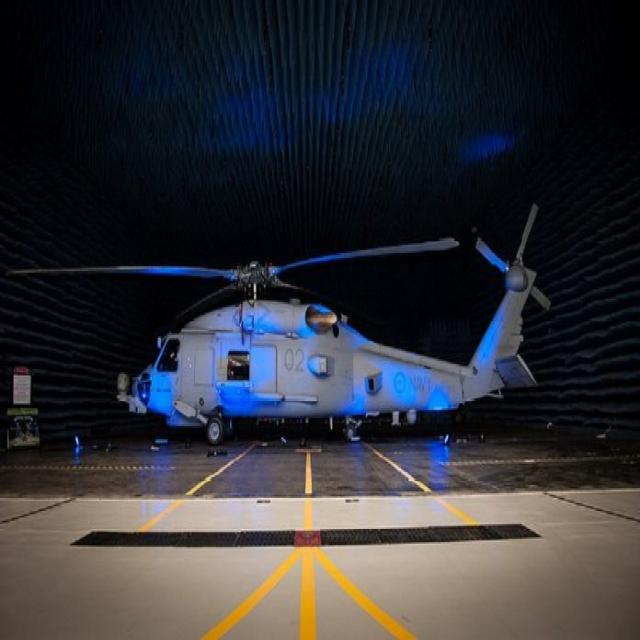helicopter: (85, 176, 558, 470)
